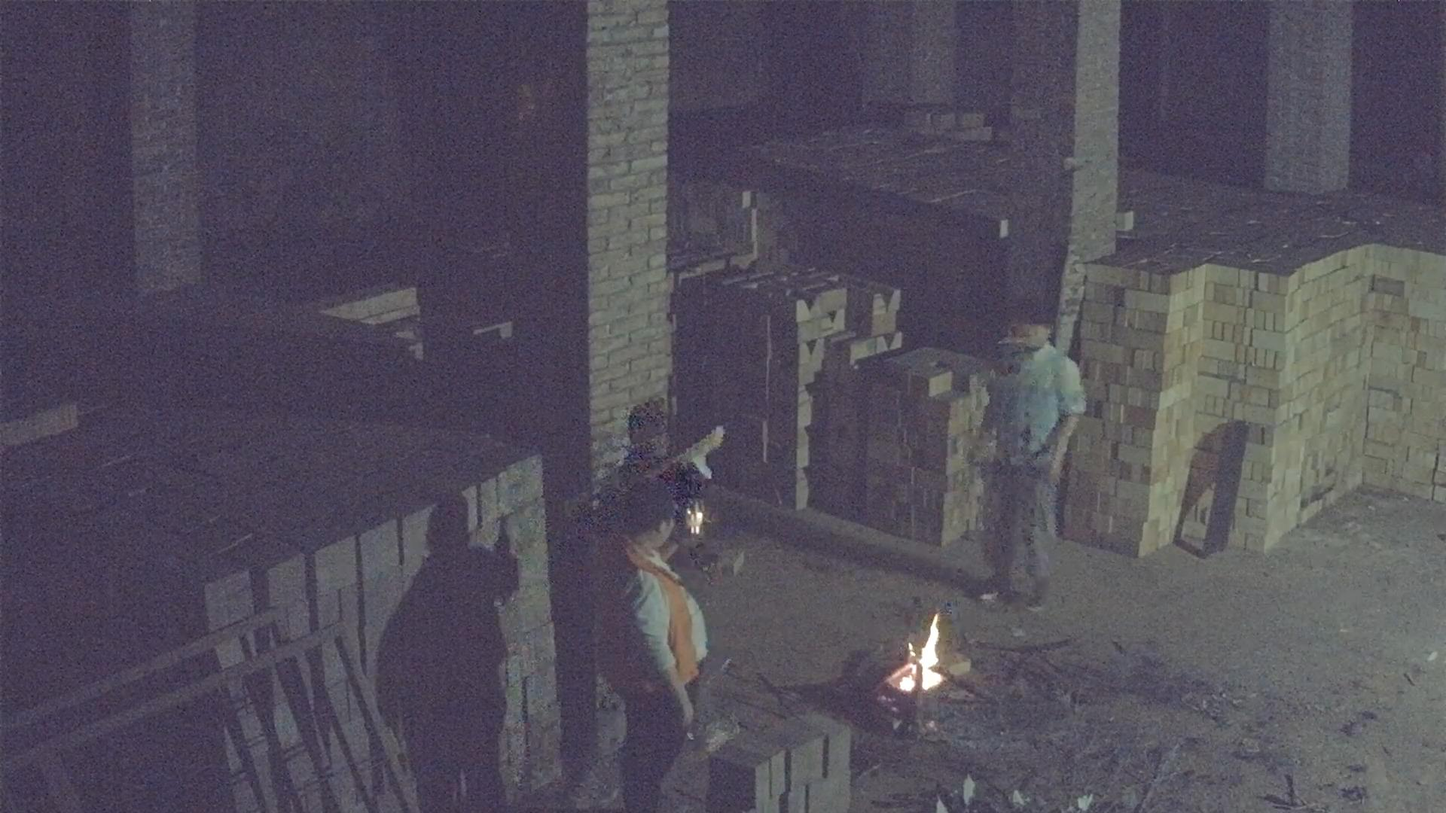fire: (893, 614, 944, 692)
